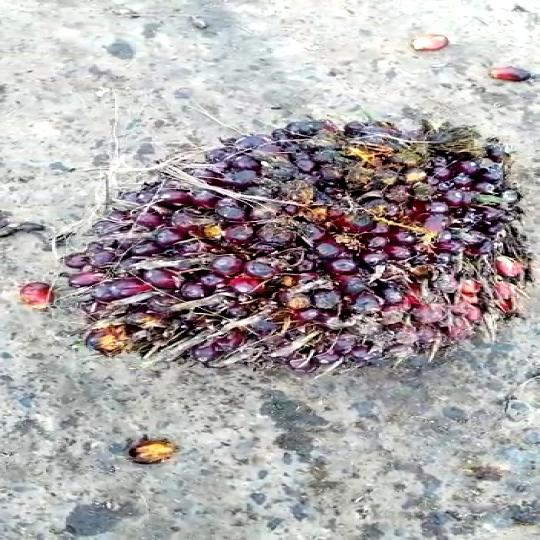masak: (64, 116, 531, 376)
